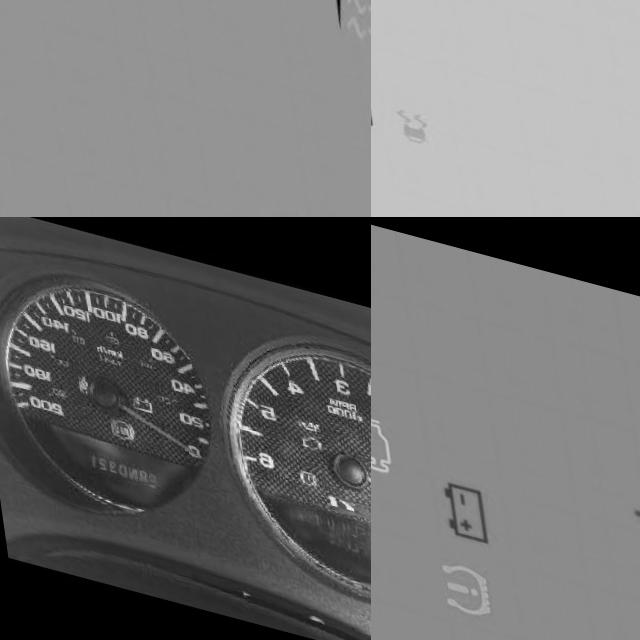Seat Belt: (66, 366, 83, 391)
